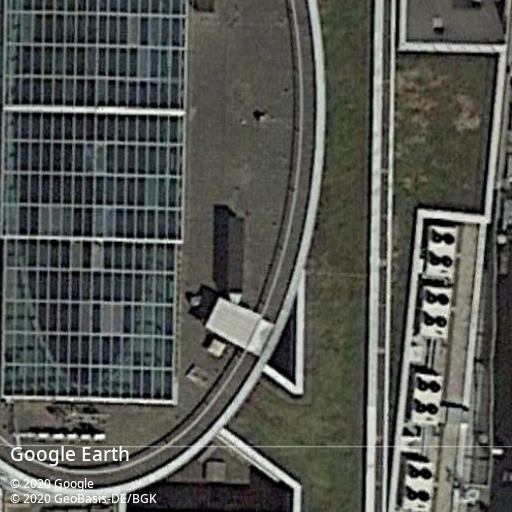Chiller: (418, 285, 453, 339), (425, 224, 458, 278), (410, 372, 444, 424), (402, 459, 436, 510)
